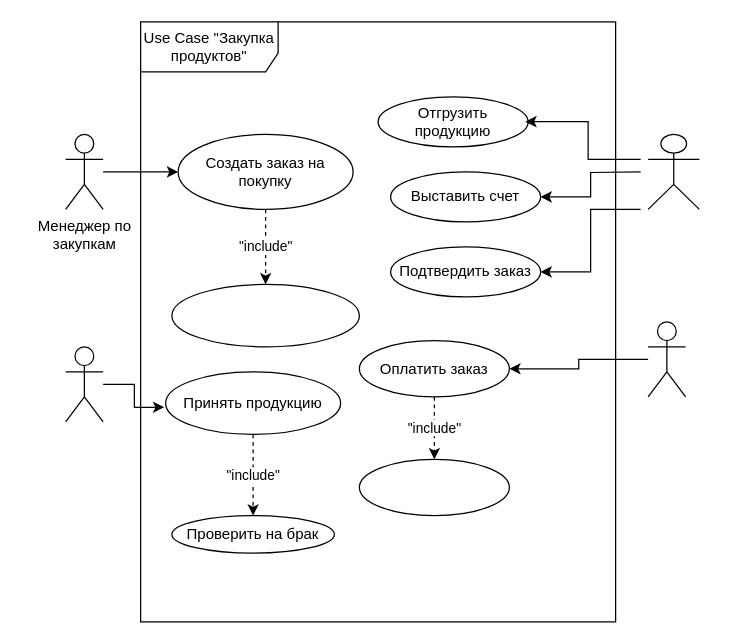
This 734x644 diagram has some shape labels left out. The shapes that lost their labels are listed below. From the top down, each one's centre as x and y in pixels, then its label:
(673,171): Поставщик
(265,315): Выбрать поставщика
(666,359): Бухгалтер
(83,384): Сотрудник склада
(433,487): Проверить бюджет
